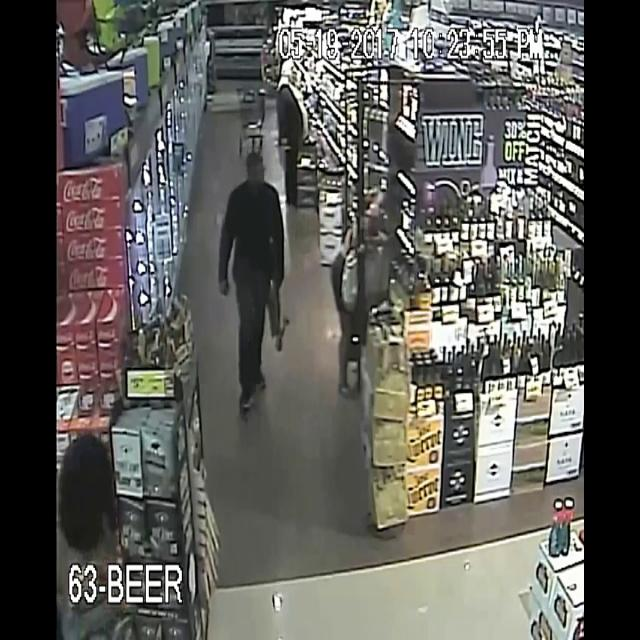normal: (210, 138, 296, 442), (324, 162, 410, 424), (50, 439, 147, 640), (272, 44, 306, 119)
